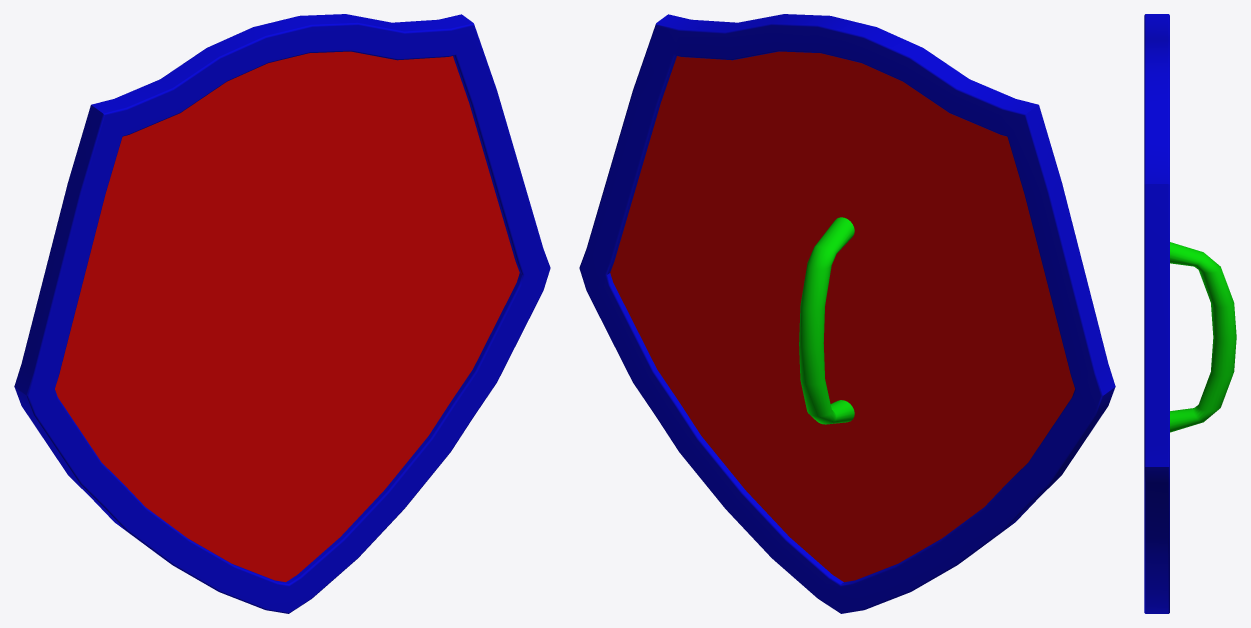
File: Shield.fbx
3 renders of one model, left to right at view 1: azimuth 30°, elevation 25°; view 2: azimuth 150°, elevation 25°; view 3: azimuth 270°, elevation 25°, orthographic. The views are drawn at different scales.
Parts seen in each view (by area): view 1: Shield; view 2: Shield; view 3: Shield.
Boxes of the visible parts, left/top/right/bottom form: Shield: left=14, top=14, right=550, bottom=613; Shield: left=579, top=14, right=1115, bottom=613; Shield: left=1144, top=14, right=1236, bottom=613.
Size of the model in its own units: 0.5437 by 0.5786 by 0.0883.
